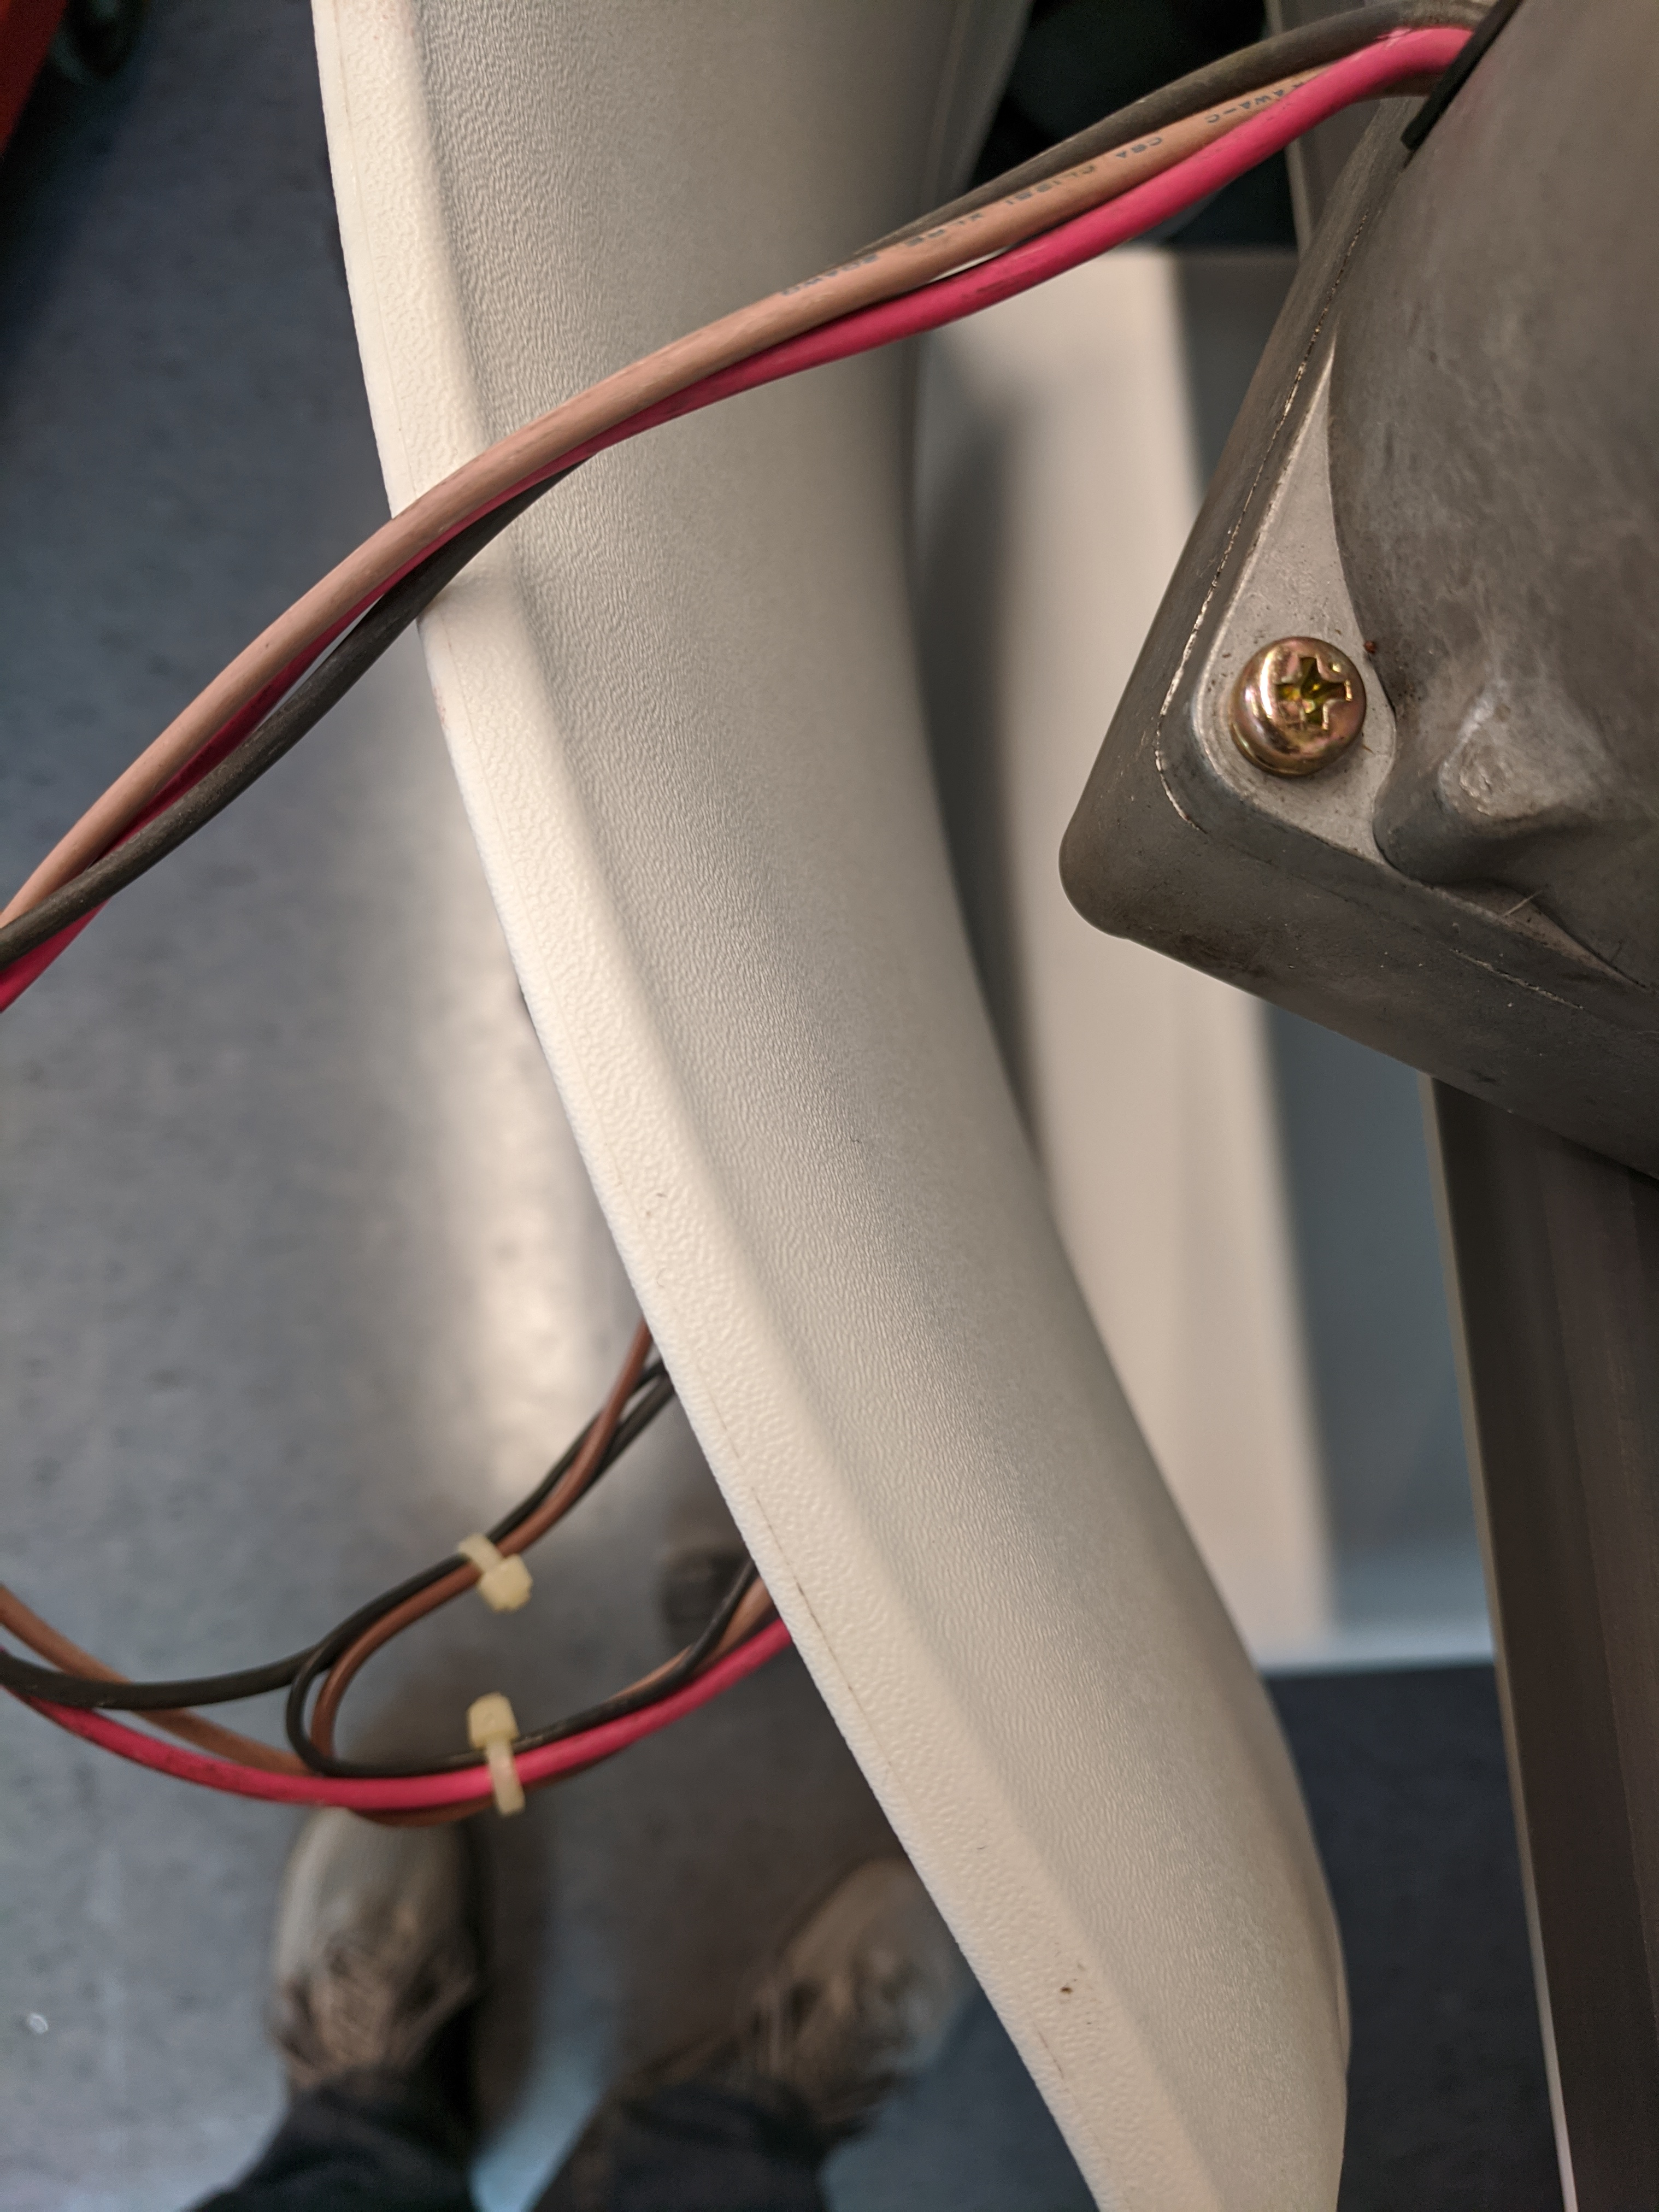cross_recessed_screw: (1237, 618, 1366, 770)
